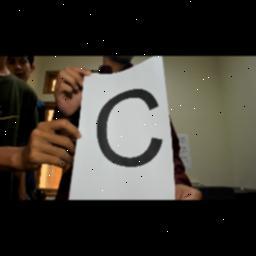c: (92, 80, 168, 174)
